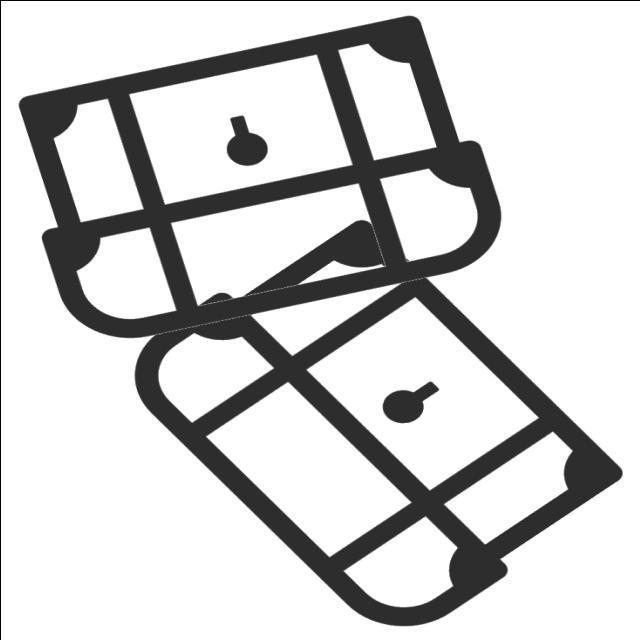treasure_box: (127, 217, 633, 637), (7, 9, 523, 349)
